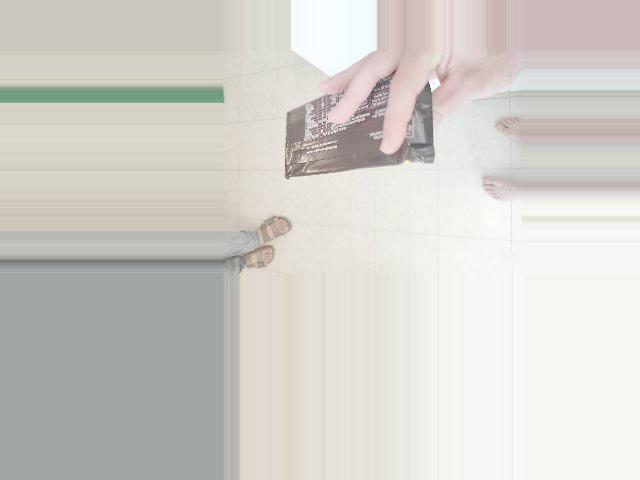chocolate: (314, 98, 427, 271)
